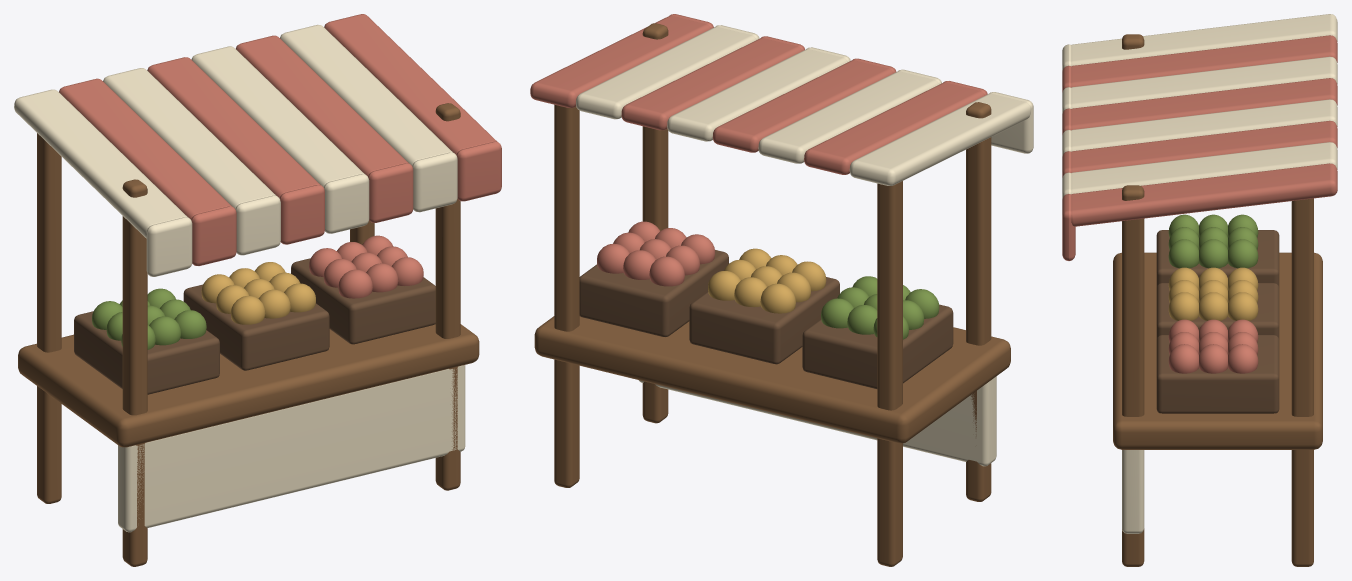
The model's file is market_stall.glb.
3 renders of one model, left to right at view 1: azimuth 30°, elevation 25°; view 2: azimuth 150°, elevation 25°; view 3: azimuth 270°, elevation 25°, orthographic. The views are drawn at different scales.
Parts seen in each view (by area): view 1: Apron, Canvas_canopy.001, Counter, Produce_crate, Garden_produce.009, Garden_produce; view 2: Counter, Apron, Canvas_canopy.001, Produce_crate, Garden_produce.009, Garden_produce; view 3: Canvas_canopy.001, Counter, Apron, Produce_crate, Garden_produce, Garden_produce.009.
Boxes of the visible parts, x1,y1,x2,y2 form: Apron: (14, 24, 465, 532); Canvas_canopy.001: (59, 14, 501, 298); Counter: (18, 103, 479, 566); Produce_crate: (74, 258, 435, 394); Garden_produce.009: (201, 262, 315, 324); Garden_produce: (92, 288, 206, 349); Counter: (534, 23, 1010, 566); Apron: (576, 25, 1033, 466); Canvas_canopy.001: (530, 14, 987, 286); Produce_crate: (579, 250, 953, 388); Garden_produce.009: (708, 248, 826, 313); Garden_produce: (821, 276, 939, 339); Canvas_canopy.001: (1062, 35, 1337, 373); Counter: (1113, 34, 1322, 566); Apron: (1062, 14, 1337, 533); Produce_crate: (1156, 230, 1279, 413); Garden_produce: (1168, 214, 1258, 268); Garden_produce.009: (1168, 267, 1258, 320).
Size of the model in its own units: 1.85 by 1.93 by 1.23.
